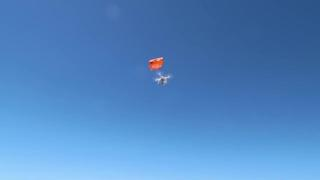UAV: (156, 73, 170, 86)
